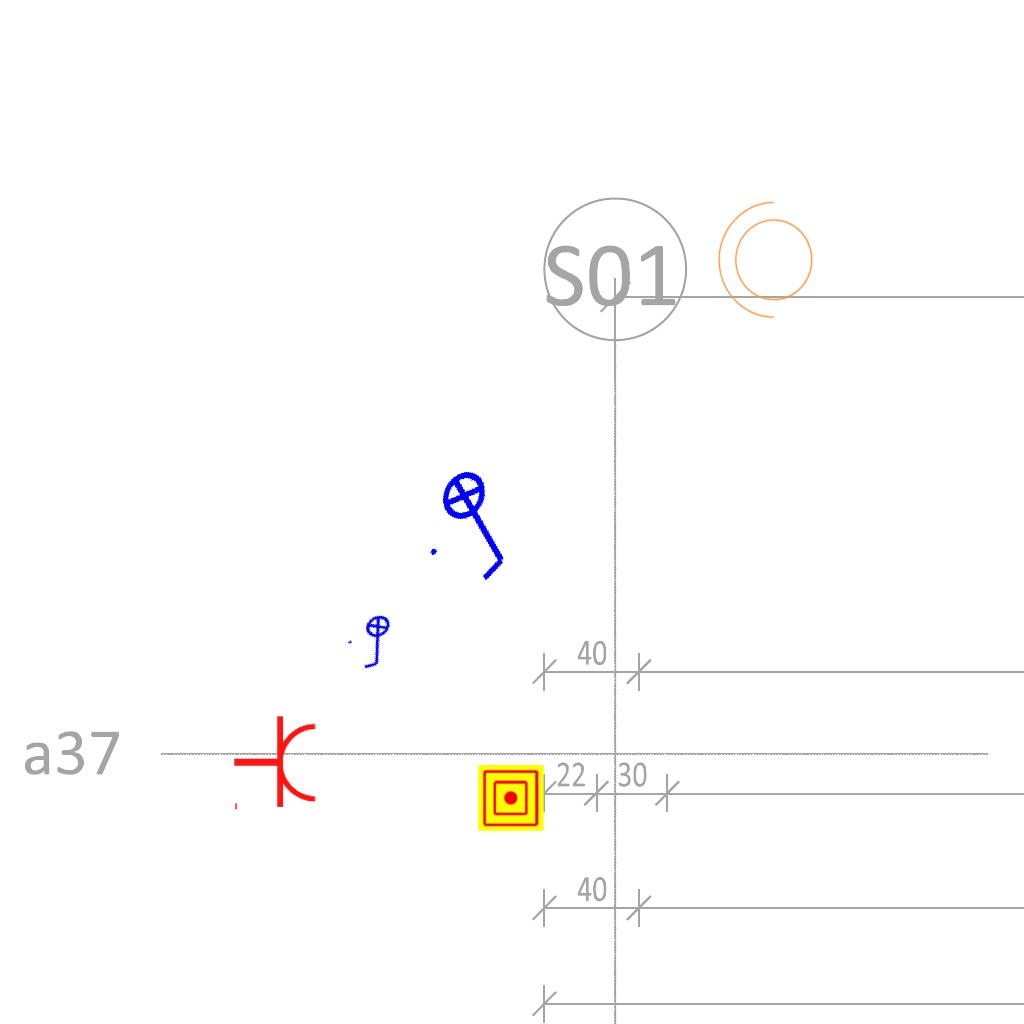Ausschalter_beleuchtet: (410, 451, 548, 595), (340, 607, 414, 677)
NAM-Nichtautomatischer_Melder: (478, 765, 544, 831)
Scheinwerfer_fuer_Alarmbeleuchtung: (713, 197, 825, 329)
Schukosteckdose_einfach: (232, 714, 319, 814)
